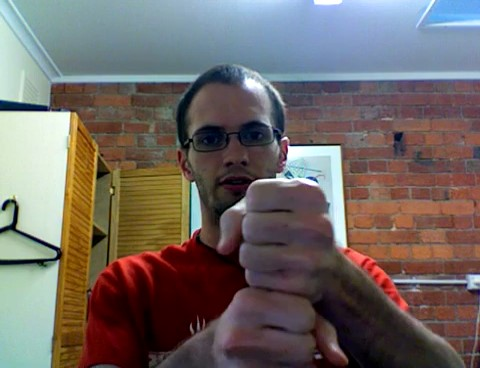G: (201, 163, 358, 363)
